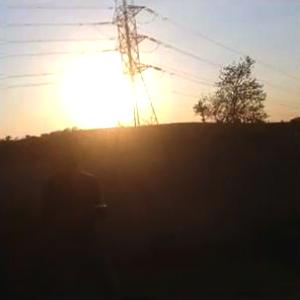follow: (38, 129, 110, 299)
